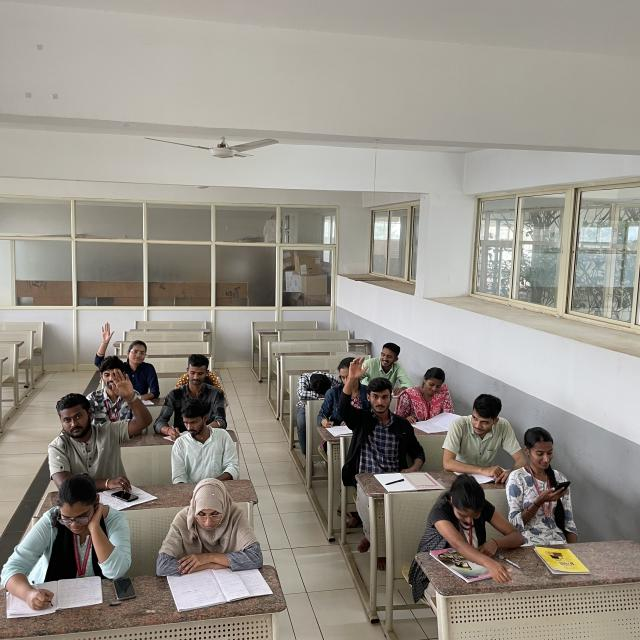Hand Rising: (36, 368, 146, 486), (345, 351, 426, 459), (92, 310, 160, 379)
Reading: (142, 472, 282, 609), (403, 360, 472, 437)
Sleeping: (260, 343, 340, 402)
Using Phone: (513, 416, 583, 521)
Writing: (6, 474, 115, 622), (150, 338, 230, 437), (318, 352, 364, 442)
